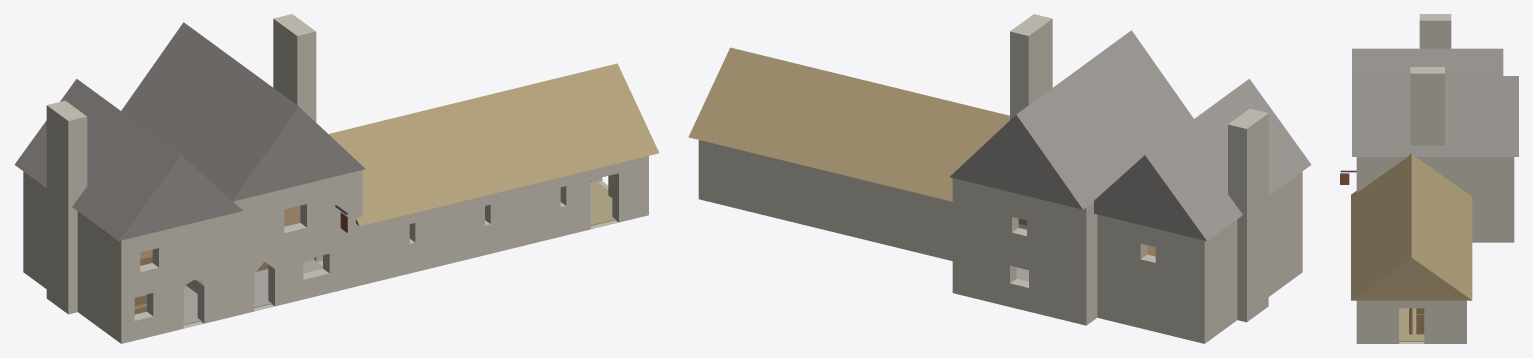
The model's file is river-inn.glb.
The picture shows the model from 3 angles, left to right: view 1: azimuth 30°, elevation 25°; view 2: azimuth 150°, elevation 25°; view 3: azimuth 270°, elevation 25°; orthographic projection. The views are drawn at different scales.
Visible parts, largest first — view 1: Ale cask; view 2: Ale cask; view 3: Ale cask.
Boxes of the visible parts, x1=… form: Ale cask: x1=14, y1=14, x2=658, y2=343; Ale cask: x1=688, y1=14, x2=1311, y2=343; Ale cask: x1=1340, y1=14, x2=1518, y2=343.
Bounding box in the file's own units: 28.85 × 11.6 × 11.35.
